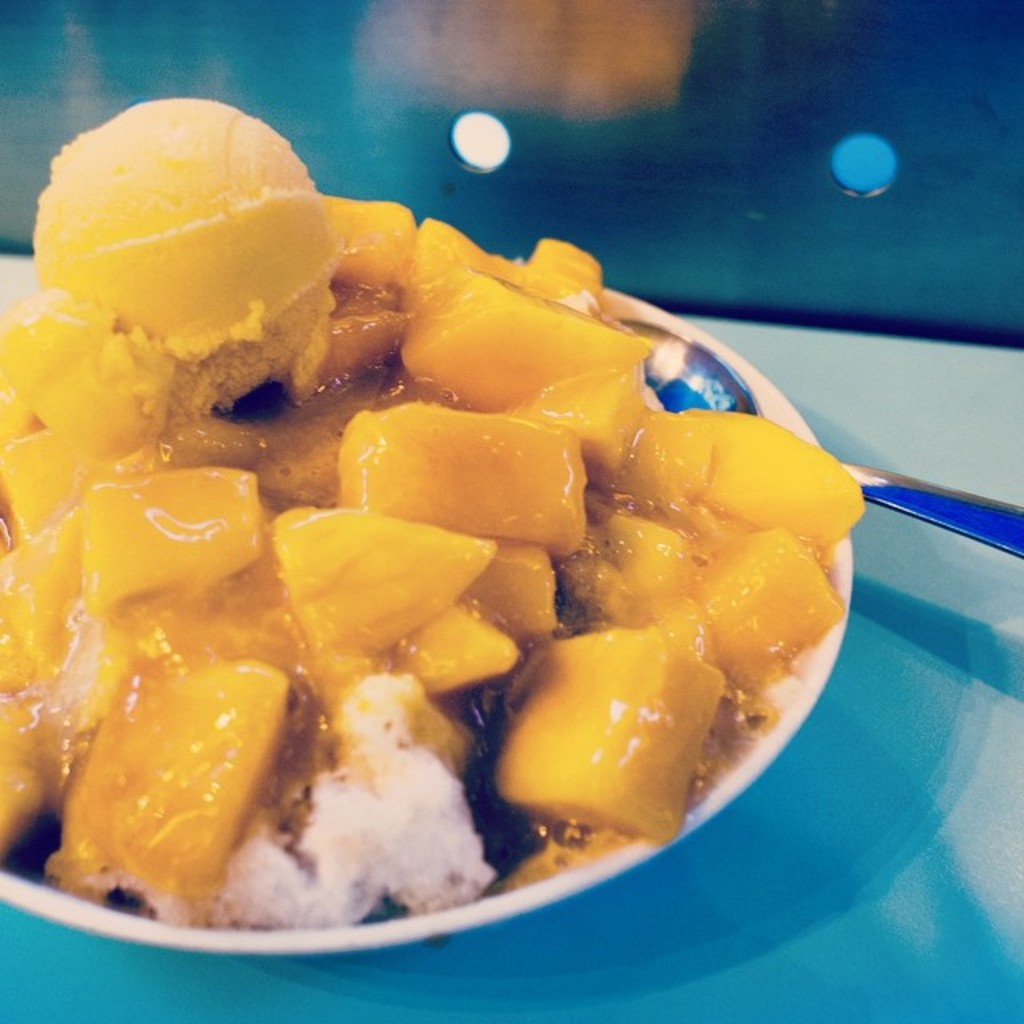person: (342, 0, 714, 119)
